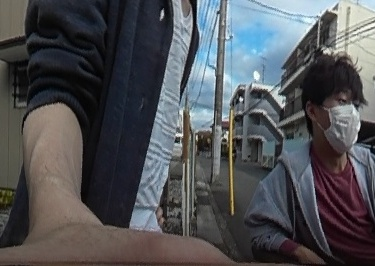person: (245, 55, 375, 266)
